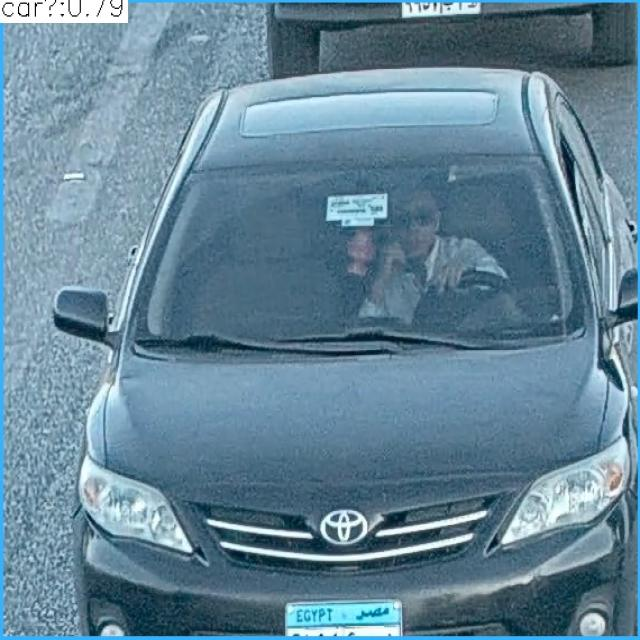windshield: (136, 160, 576, 343)
